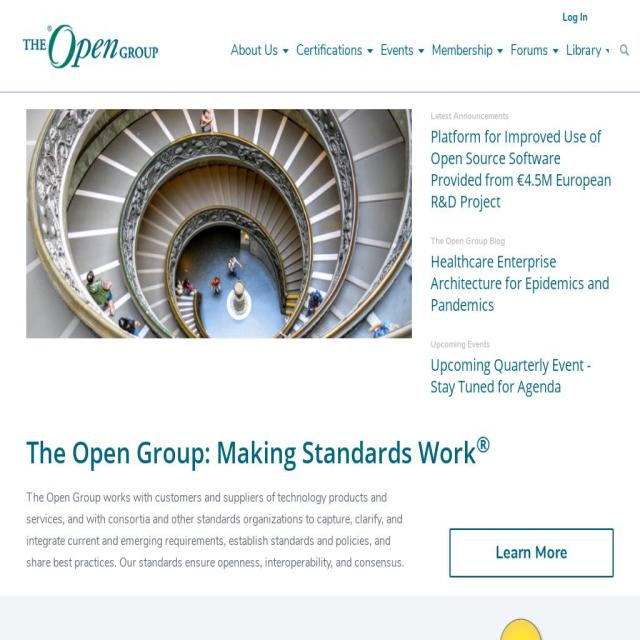button: (430, 126, 614, 212), (430, 251, 614, 316), (448, 528, 614, 578), (430, 354, 614, 398), (13, 21, 165, 71), (292, 28, 377, 74), (428, 28, 507, 74), (227, 28, 292, 74), (507, 28, 562, 74), (562, 28, 616, 74), (377, 28, 428, 74), (553, 0, 597, 38), (612, 37, 637, 66)
field: (609, 37, 611, 66)
heading: (26, 434, 476, 470), (476, 428, 490, 459)
image: (26, 109, 412, 339), (13, 21, 165, 71), (430, 616, 614, 640)
text: (26, 487, 412, 573), (430, 109, 614, 123), (430, 234, 614, 248), (430, 338, 614, 352), (296, 40, 366, 60), (432, 40, 496, 60), (231, 40, 281, 60), (511, 40, 551, 60), (566, 40, 604, 60), (381, 40, 417, 60)
